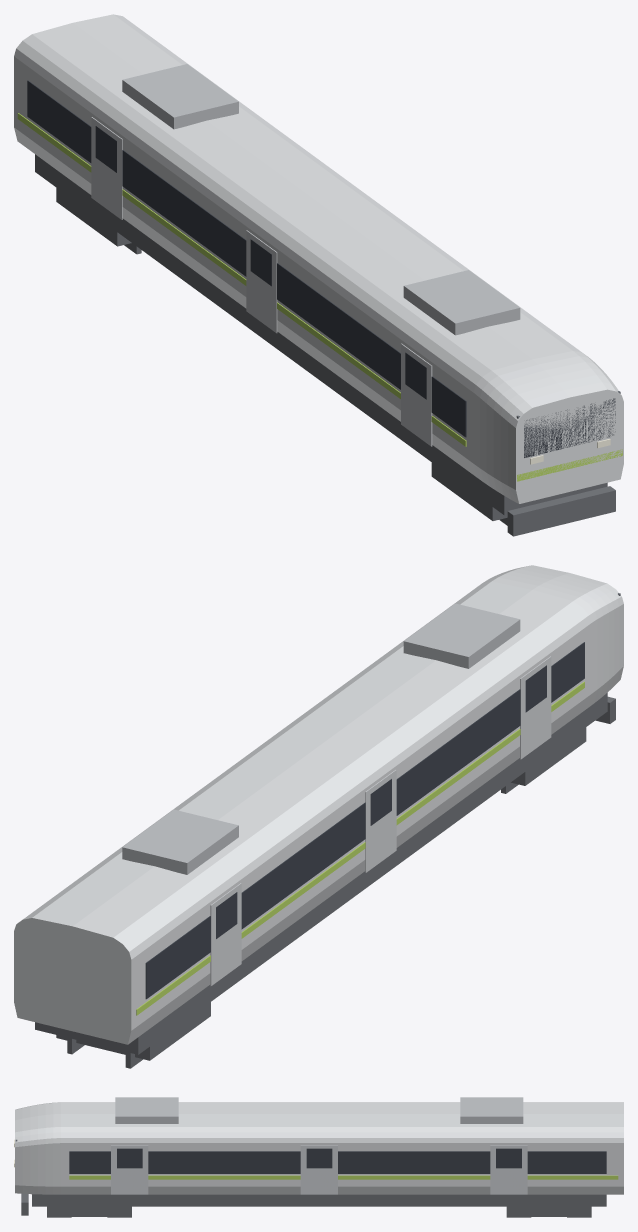
File: ser733_lead.glb
The picture shows the model from 3 angles, top to bottom: view 1: azimuth 30°, elevation 25°; view 2: azimuth 150°, elevation 25°; view 3: azimuth 270°, elevation 25°; orthographic projection. The views are drawn at different scales.
Visible parts, largest first — view 1: ser733_lead; view 2: ser733_lead; view 3: ser733_lead.
Part boxes in pixels (left/top/right/bottom): ser733_lead: left=14, top=14, right=623, bottom=536; ser733_lead: left=14, top=565, right=623, bottom=1068; ser733_lead: left=14, top=1097, right=623, bottom=1217.
Bounding box in the file's own units: 2.96 × 3.88 × 21.23.
